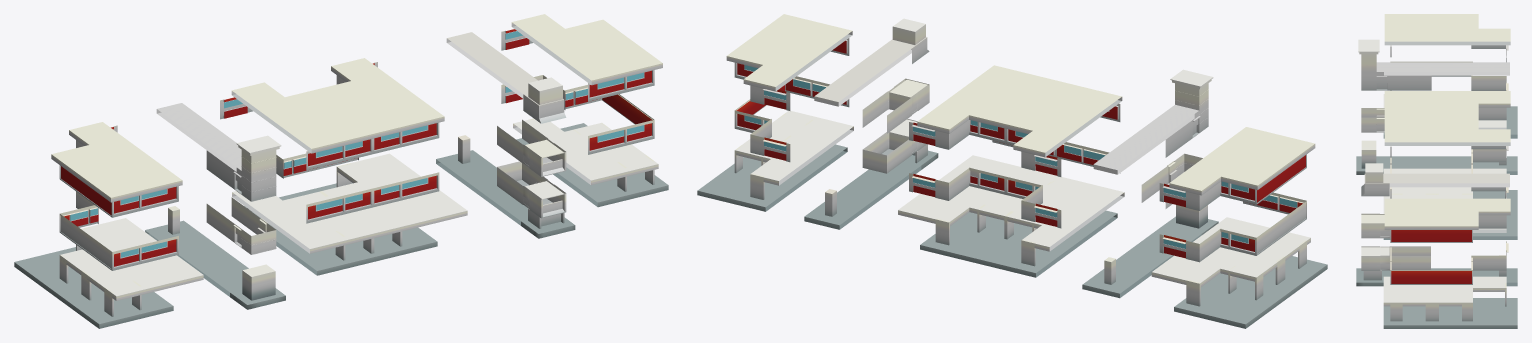
The model's file is HDBModels.fbx.
3 renders of one model, left to right at view 1: azimuth 30°, elevation 25°; view 2: azimuth 150°, elevation 25°; view 3: azimuth 270°, elevation 25°, orthographic. The views are drawn at different scales.
Visible parts, largest first — view 1: polySurface39, polySurface15, polySurface20, polySurface35, polySurface37, polySurface2, pCube351, polySurface32, polySurface17, polySurface26, polySurface9, pCube352 (+3 smaller); view 2: polySurface15, polySurface39, polySurface20, polySurface2, polySurface35, polySurface37, pCube351, polySurface32, polySurface9, polySurface17, pCube352, polySurface26 (+3 smaller); view 3: polySurface39, polySurface2, polySurface37, polySurface35, polySurface32, polySurface15, pCube351, polySurface26, polySurface17, pCube350, pCube352, polySurface9 (+3 smaller).
Part boxes in pixels (x1,y1,x2,y2): polySurface39: [220, 58, 444, 170]; polySurface15: [232, 153, 467, 275]; polySurface20: [14, 218, 203, 328]; polySurface35: [51, 122, 182, 217]; polySurface37: [501, 14, 662, 101]; polySurface2: [513, 118, 668, 207]; pCube351: [436, 135, 575, 238]; polySurface32: [156, 103, 281, 201]; polySurface17: [145, 206, 285, 309]; polySurface26: [446, 32, 566, 123]; polySurface9: [276, 153, 439, 223]; pCube352: [59, 191, 178, 270]; polySurface15: [898, 155, 1124, 277]; polySurface39: [909, 65, 1122, 176]; polySurface20: [1151, 217, 1327, 328]; polySurface2: [697, 110, 853, 211]; polySurface35: [1159, 127, 1315, 210]; polySurface37: [726, 14, 852, 110]; pCube351: [804, 119, 938, 229]; polySurface32: [1093, 69, 1213, 174]; polySurface9: [909, 140, 1120, 228]; polySurface17: [1082, 205, 1218, 298]; pCube352: [1159, 192, 1306, 262]; polySurface26: [814, 18, 929, 106]; polySurface39: [1384, 91, 1510, 163]; polySurface2: [1383, 276, 1517, 328]; polySurface37: [1384, 198, 1510, 242]; polySurface35: [1384, 14, 1510, 62]; polySurface32: [1358, 39, 1509, 90]; polySurface15: [1383, 168, 1517, 239]; pCube351: [1356, 246, 1517, 286]; polySurface26: [1361, 163, 1509, 196]; polySurface17: [1356, 140, 1517, 174]; pCube350: [1390, 241, 1508, 284]; pCube352: [1390, 61, 1508, 90]; polySurface9: [1390, 149, 1508, 198].
Bounding box in the file's own units: 12527 × 3255 × 3905.
Materials: 1 (1 with a texture image).
